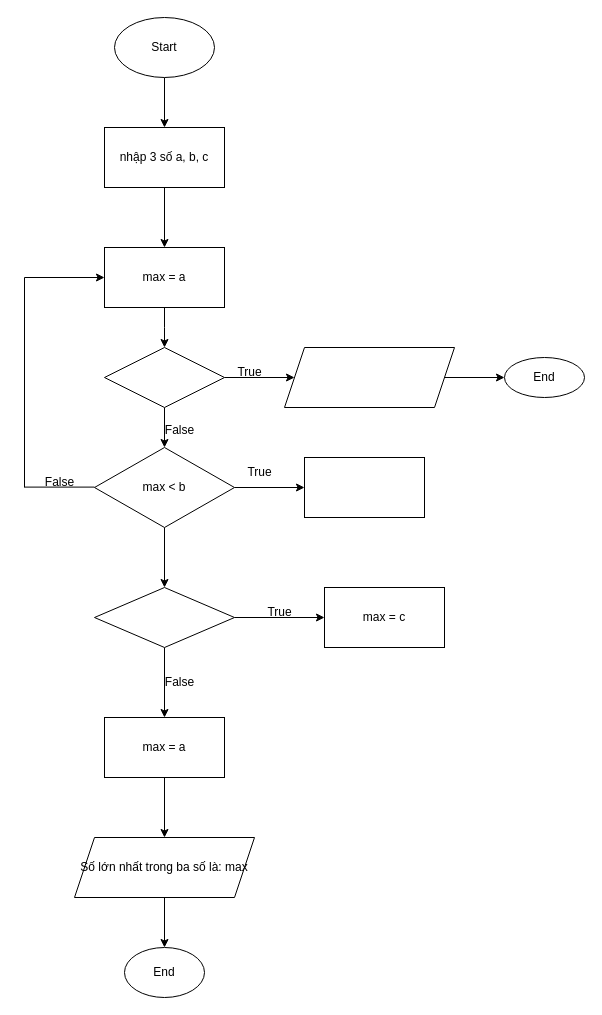
This 602x1015 diagram has some shape labels left out. The shapes that lost their labels are listed below. From the top down, each one's box as (x1, y1, x2, y2) in pixels, then its label:
(104, 346, 224, 408): a=b=c
(284, 346, 454, 408): Ba số a, b, c bằng nhau
(304, 456, 424, 518): max = b
(94, 586, 234, 648): max < c
